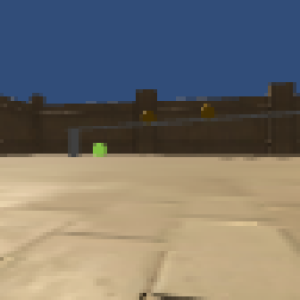goodGoal: (92, 141, 108, 156)
goodGoalMulti: (138, 106, 158, 123), (197, 102, 218, 116)
wall: (68, 128, 82, 158)
